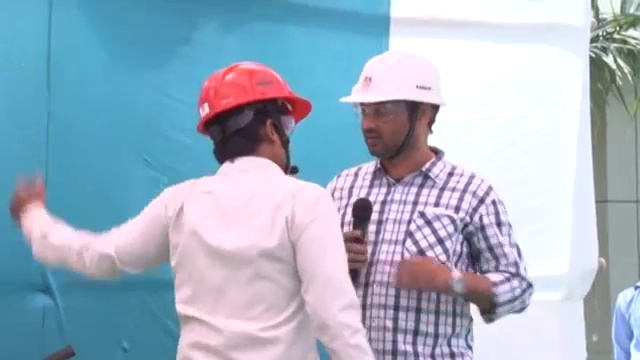helmet: (194, 59, 313, 136), (340, 48, 447, 109)
helmet_on: (193, 58, 314, 177), (340, 49, 447, 174)
person: (10, 59, 371, 360), (325, 47, 539, 360)
